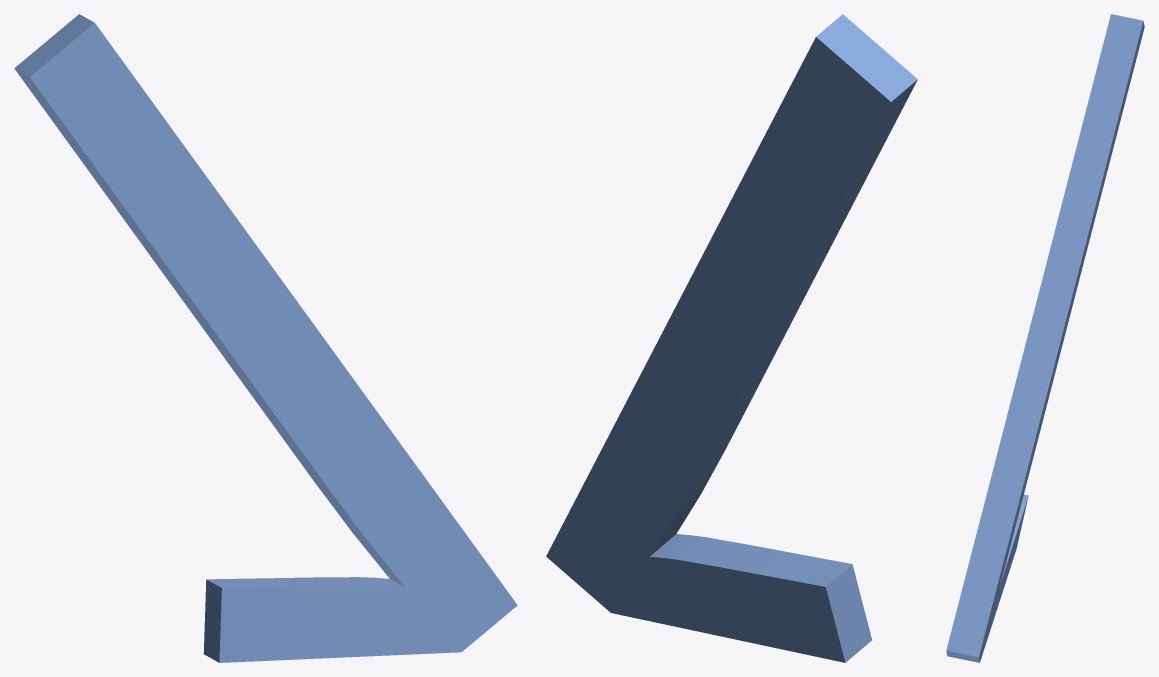
Rendered from New_Number_1.gltf.
3 views of the same model, side by side, from view 1: azimuth 30°, elevation 25°; view 2: azimuth 150°, elevation 25°; view 3: azimuth 270°, elevation 25° (orthographic). The views are drawn at different scales.
Visible parts, largest first — view 1: Part 478; view 2: Part 478; view 3: Part 478.
Boxes of the visible parts, left/top/right/bottom form: Part 478: left=14, top=14, right=517, bottom=662; Part 478: left=546, top=14, right=917, bottom=662; Part 478: left=946, top=14, right=1144, bottom=662.
Bounding box in the file's own units: 0.00295 × 0.00452 × 0.00152.
